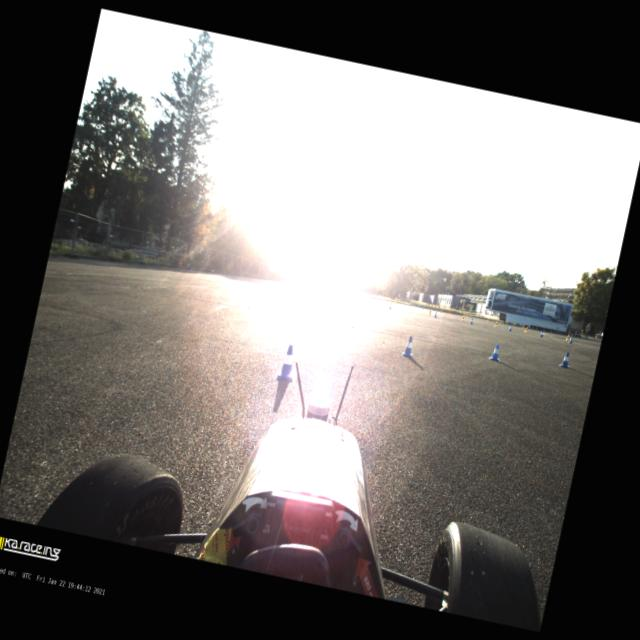blue_cone: (276, 342, 299, 380), (401, 334, 416, 358), (488, 342, 503, 362), (558, 351, 572, 368), (538, 330, 544, 338), (568, 336, 573, 343), (433, 312, 438, 318), (508, 324, 512, 331), (469, 317, 473, 324), (388, 304, 392, 310), (363, 300, 366, 304), (500, 320, 502, 324), (422, 306, 424, 309), (586, 336, 588, 339), (440, 310, 441, 313), (557, 331, 558, 334), (408, 303, 409, 306), (395, 302, 396, 304), (382, 299, 383, 301), (578, 334, 579, 336), (532, 326, 532, 329)
yellow_cone: (565, 334, 569, 341), (493, 321, 498, 326), (428, 308, 432, 314), (460, 314, 464, 320), (524, 327, 528, 332), (389, 300, 392, 304), (487, 318, 489, 322), (448, 310, 450, 314), (522, 324, 524, 328), (427, 307, 429, 311), (550, 330, 552, 332), (593, 338, 595, 340), (408, 304, 408, 306)
